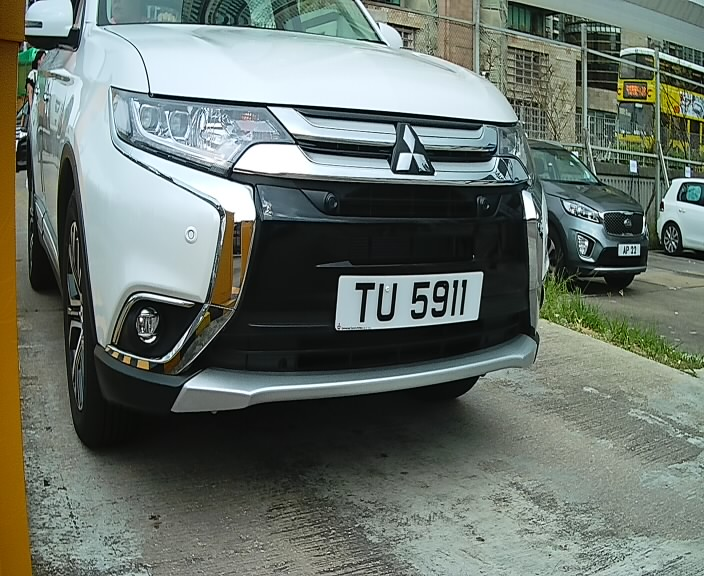Car: (11, 2, 563, 462)
License Plate: (328, 262, 493, 339)
